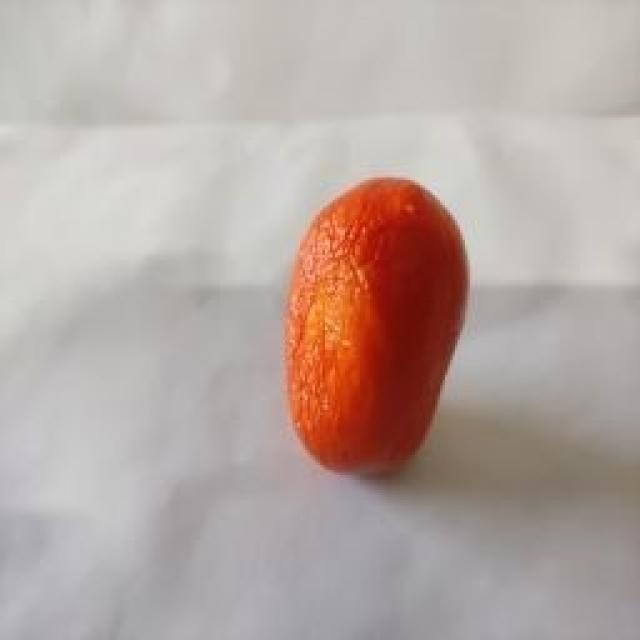overripe: (282, 175, 472, 480)
